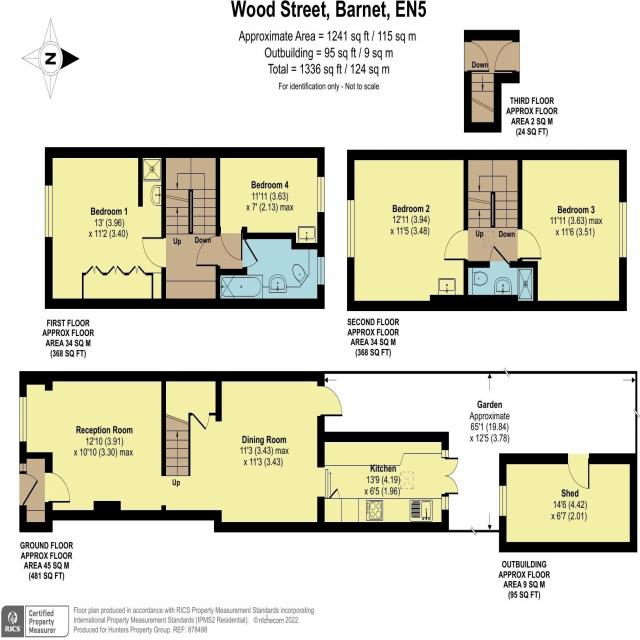DOOR: (316, 384, 343, 419), (141, 235, 167, 269), (194, 235, 220, 268), (443, 228, 468, 262), (220, 226, 243, 261), (517, 228, 542, 260), (242, 238, 259, 268), (489, 244, 511, 267)
ROOM: (347, 149, 468, 312), (45, 147, 166, 309), (517, 149, 627, 312), (317, 431, 460, 533), (215, 147, 325, 262)
WINDOW: (346, 198, 356, 260), (618, 201, 627, 259), (45, 185, 53, 238), (19, 395, 27, 443), (317, 176, 325, 213), (317, 256, 325, 286), (441, 496, 449, 511), (441, 449, 449, 458)
